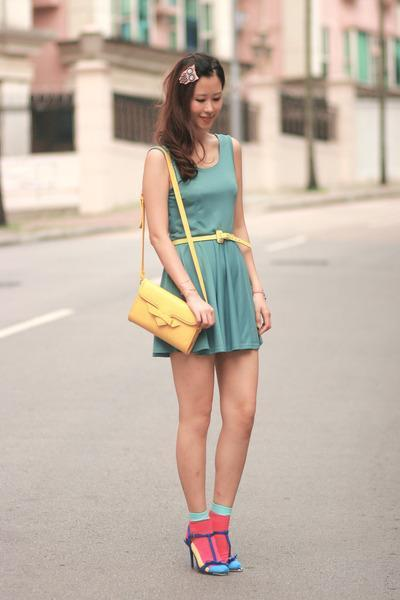bag: (130, 186, 203, 347)
dress: (153, 132, 269, 357)
shoe: (185, 540, 239, 575)
